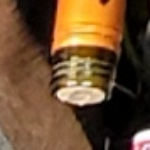bottle: (40, 47, 124, 124)
